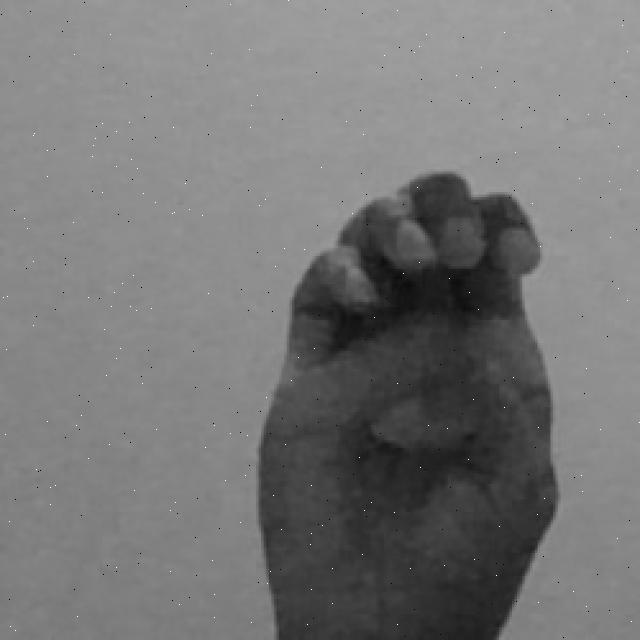E: (256, 169, 566, 640)
